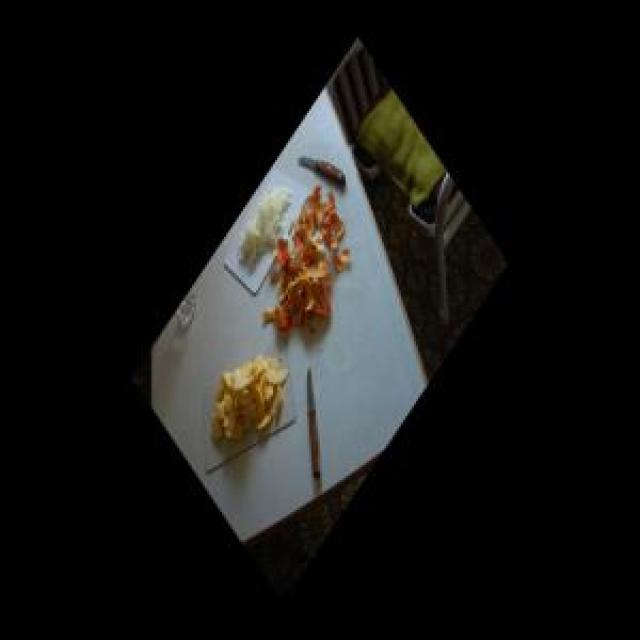knife: (303, 363, 325, 494), (297, 147, 353, 190)
